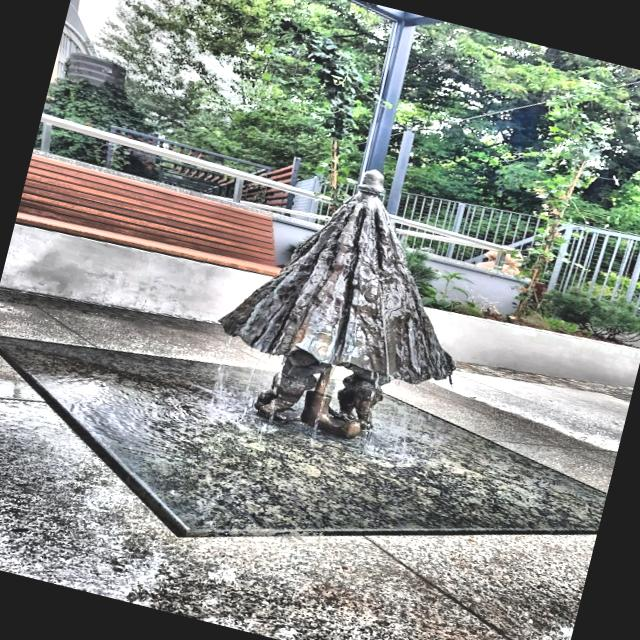Parasolniki: (218, 169, 455, 439)
